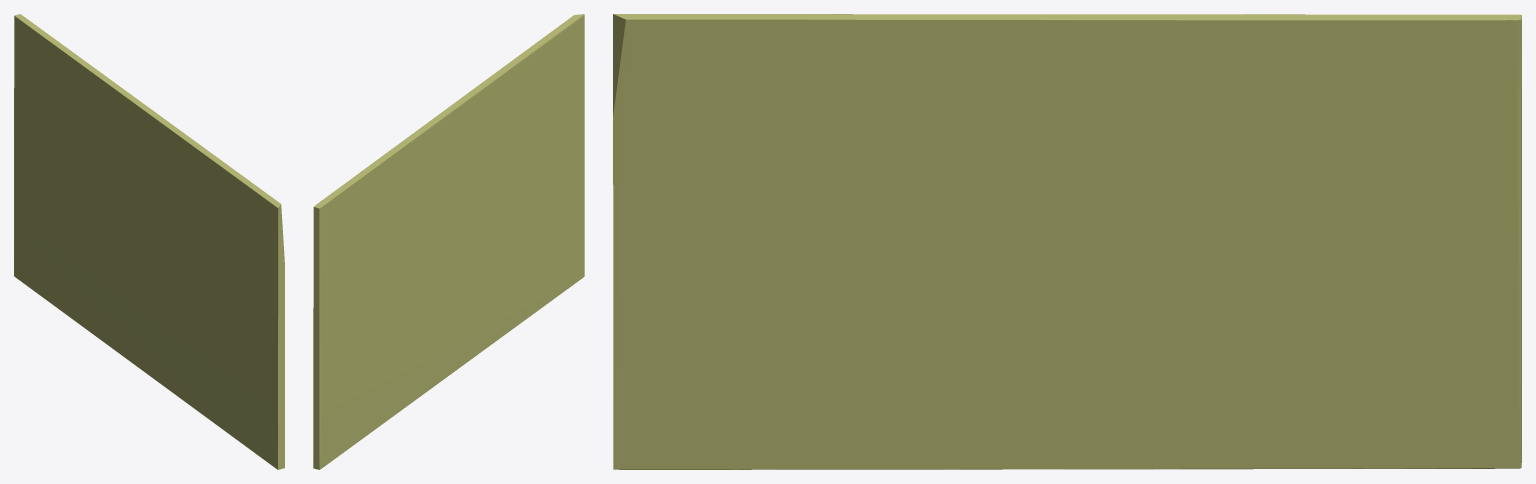
The model's file is blinds_window_2m_open_a02.glb.
3 renders of one model, left to right at view 1: azimuth 30°, elevation 25°; view 2: azimuth 150°, elevation 25°; view 3: azimuth 270°, elevation 25°, orthographic. The views are drawn at different scales.
Parts seen in each view (by area): view 1: geometry_0; view 2: geometry_0; view 3: geometry_0.
Part boxes in pixels (x1,y1,x2,y2): geometry_0: (14,14,284,469); geometry_0: (313,14,584,469); geometry_0: (613,14,1521,469).
Size of the model in its own units: 0.00751 by 0.2625 by 0.4799.
